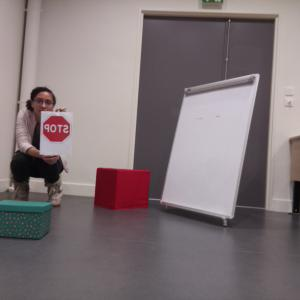stop: (43, 114, 71, 143)
